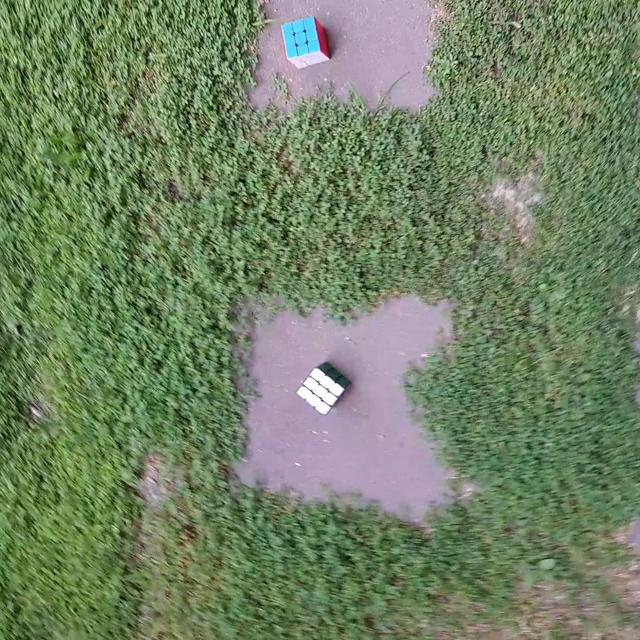rubix_cube: (294, 360, 352, 416), (280, 15, 332, 71)
